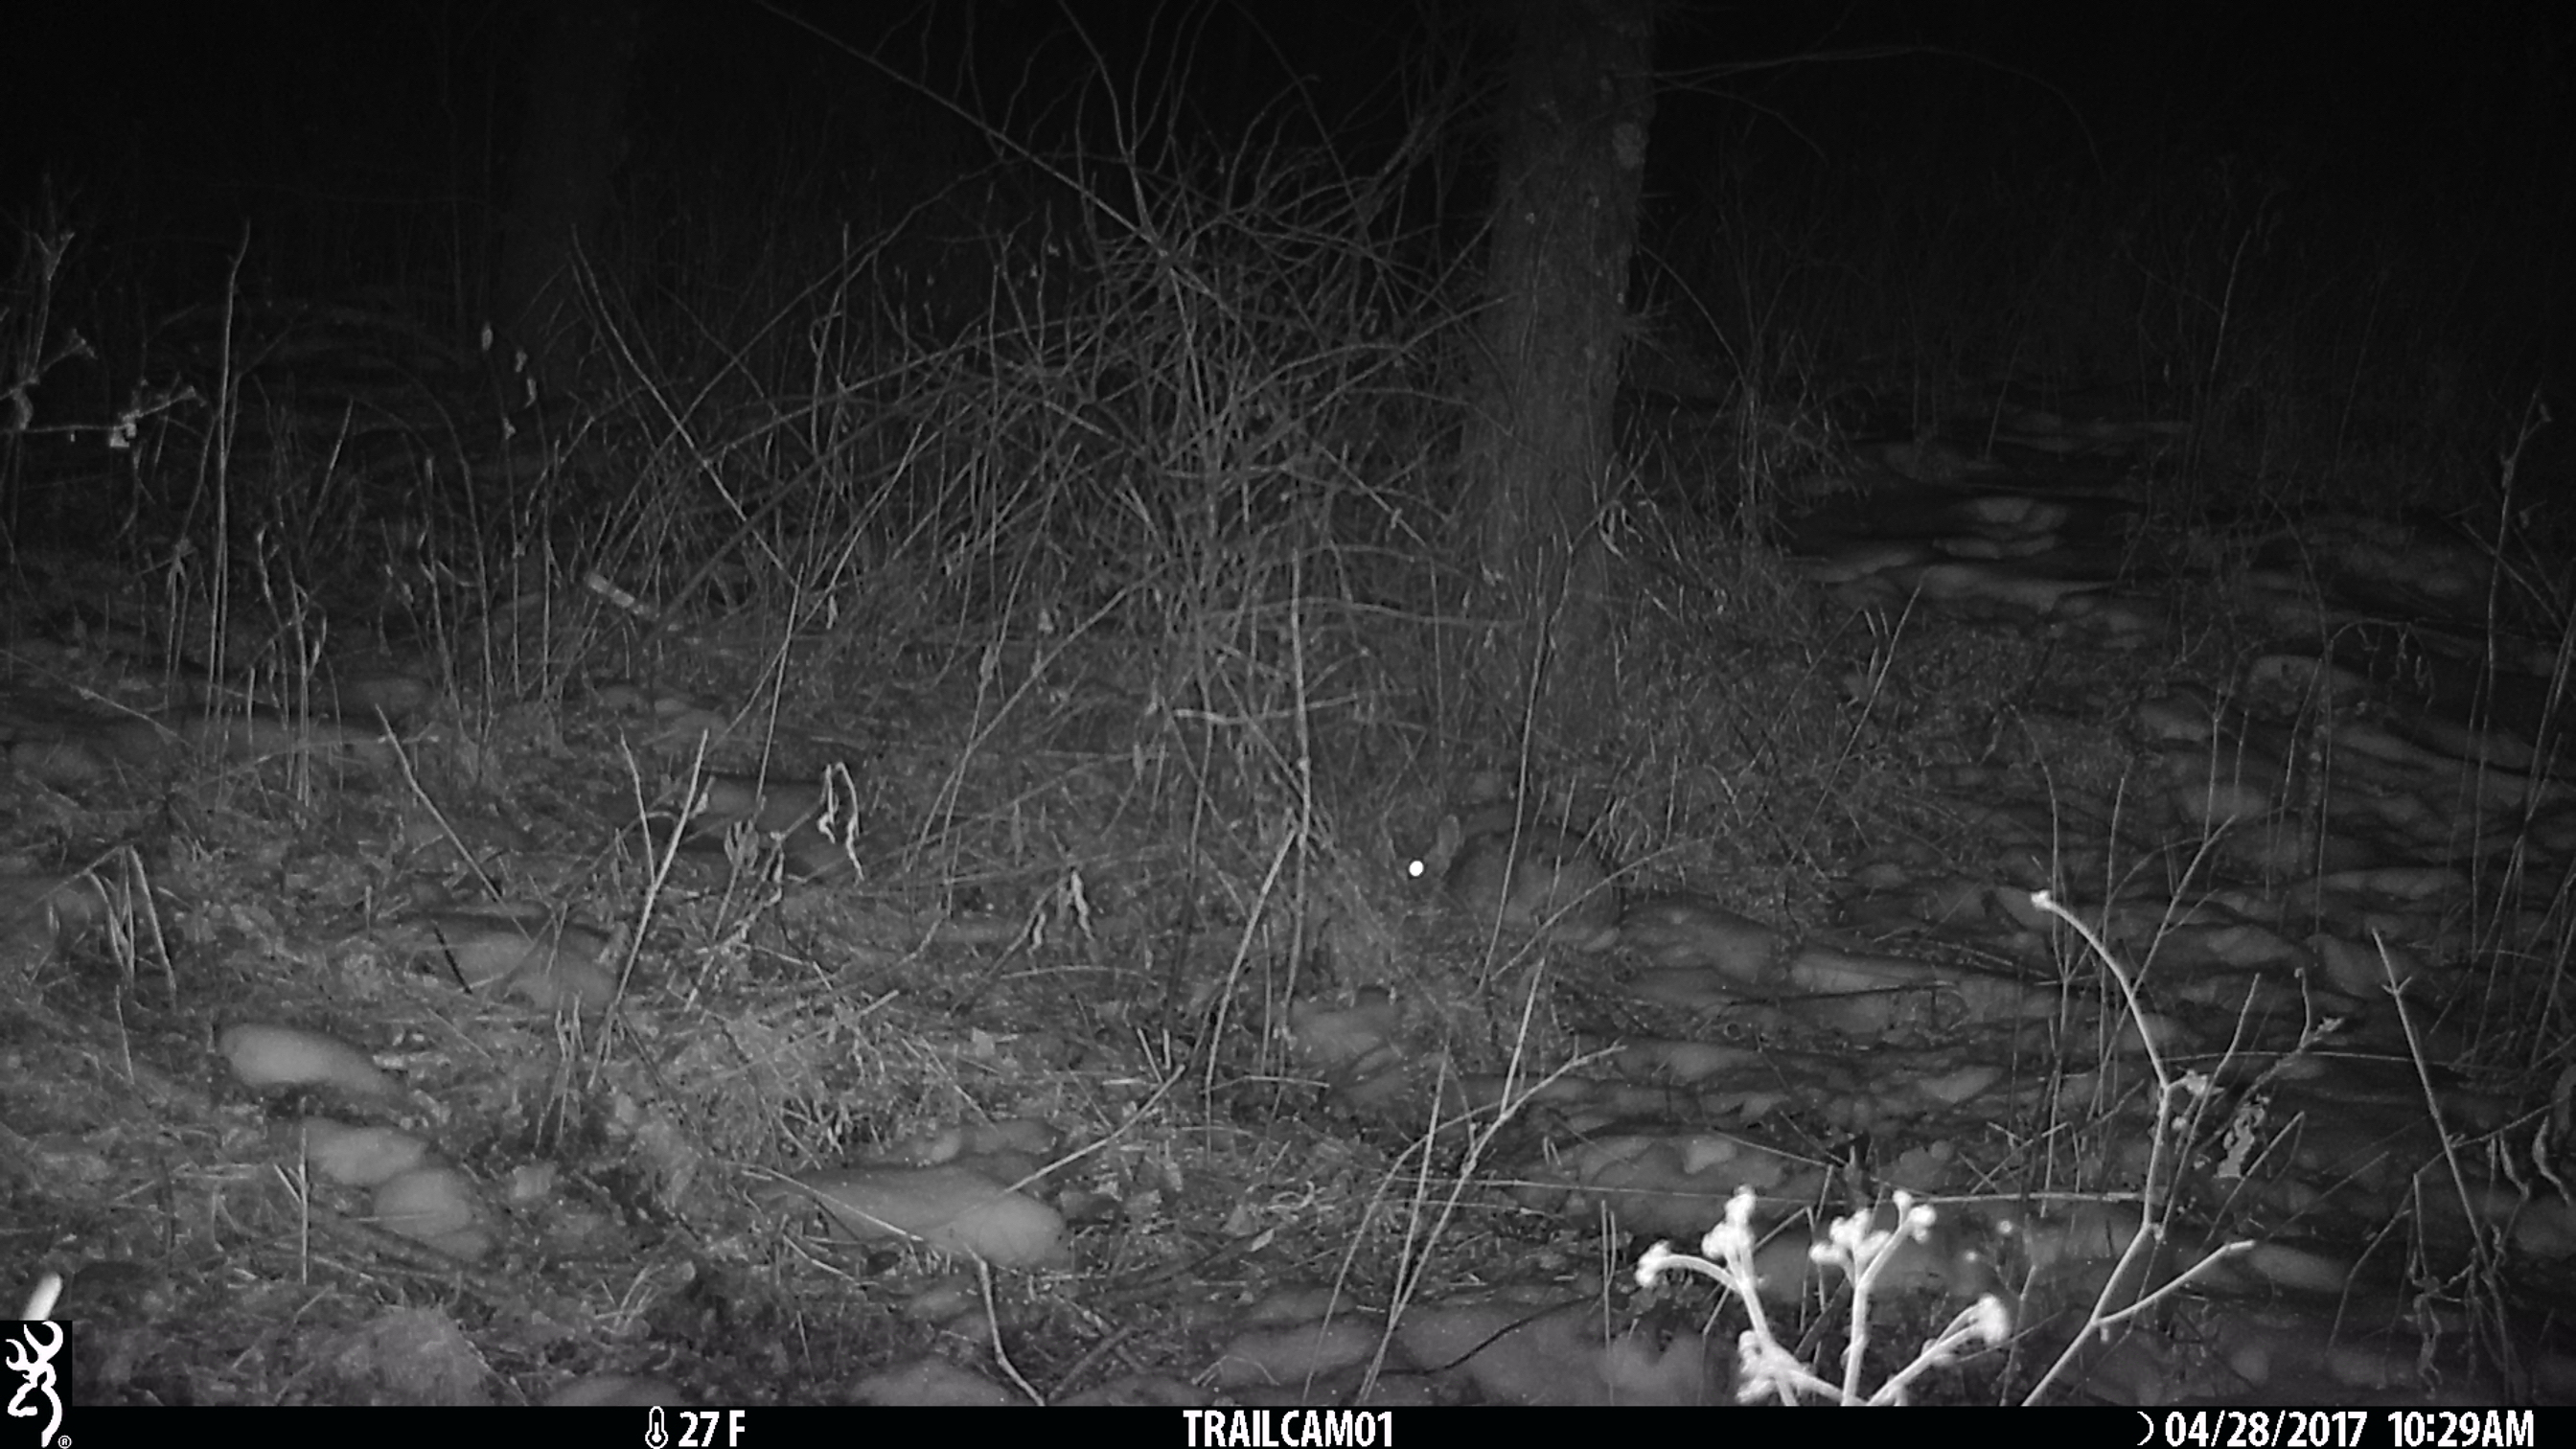Rabbit: (1391, 814, 1629, 950)
